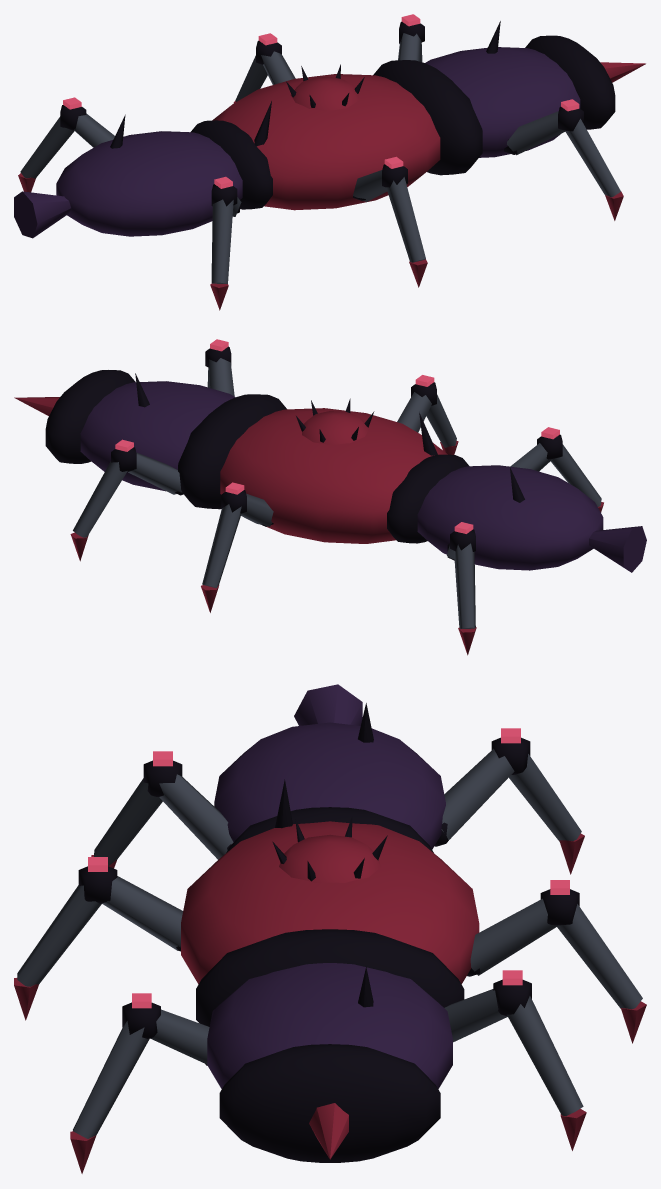
Rendered from acolyte-directorate.glb.
3 renders of one model, top to bottom at view 1: azimuth 30°, elevation 25°; view 2: azimuth 150°, elevation 25°; view 3: azimuth 270°, elevation 25°, orthographic. The views are drawn at different scales.
Visible parts, largest first — view 1: tergite_1, tergite_0, tergite_2, tergite_seam_1, tergite_seam_2, tergite_seam_0, telson, dome, limb_s2_tibia, limb_s1_tibia, limb_s0_tibia, limb_s0_femur (+11 smaller); view 2: tergite_1, tergite_0, tergite_2, tergite_seam_1, tergite_seam_2, tergite_seam_0, telson, dome, limb_p2_tibia, limb_p1_tibia, limb_p0_tibia, limb_p0_femur (+8 smaller); view 3: tergite_1, tergite_seam_2, tergite_2, tergite_0, tergite_seam_1, dome, limb_p0_tibia, limb_s0_tibia, limb_p1_femur, limb_p1_tibia, limb_s1_tibia, limb_s1_femur (+15 smaller).
Part boxes in pixels (x1=…): tergite_1: x1=212, y1=74, x2=440, y2=210; tergite_0: x1=56, y1=131, x2=242, y2=236; tergite_2: x1=425, y1=47, x2=580, y2=157; tergite_seam_1: x1=373, y1=60, x2=482, y2=175; tergite_seam_2: x1=525, y1=35, x2=615, y2=129; tergite_seam_0: x1=190, y1=120, x2=272, y2=209; telson: x1=14, y1=191, x2=71, y2=238; dome: x1=290, y1=77, x2=358, y2=110; limb_s2_tibia: x1=211, y1=199, x2=233, y2=283; limb_s1_tibia: x1=386, y1=177, x2=425, y2=262; limb_s0_tibia: x1=565, y1=118, x2=620, y2=197; limb_s0_femur: x1=507, y1=111, x2=565, y2=155; tergite_1: x1=220, y1=408, x2=447, y2=543; tergite_0: x1=417, y1=465, x2=603, y2=570; tergite_2: x1=80, y1=381, x2=234, y2=491; tergite_seam_1: x1=178, y1=394, x2=286, y2=509; tergite_seam_2: x1=45, y1=370, x2=135, y2=463; tergite_seam_0: x1=387, y1=454, x2=469, y2=543; telson: x1=589, y1=526, x2=646, y2=572; dome: x1=302, y1=411, x2=369, y2=445; limb_p2_tibia: x1=454, y1=543, x2=475, y2=629; limb_p1_tibia: x1=202, y1=504, x2=241, y2=588; limb_p0_tibia: x1=73, y1=461, x2=127, y2=537; limb_p0_femur: x1=128, y1=452, x2=182, y2=494; tergite_1: x1=181, y1=821, x2=479, y2=984; tergite_seam_2: x1=219, y1=1044, x2=440, y2=1162; tergite_2: x1=207, y1=963, x2=452, y2=1088; tergite_0: x1=214, y1=722, x2=445, y2=849; tergite_seam_1: x1=196, y1=929, x2=464, y2=1026; dome: x1=279, y1=834, x2=381, y2=882; limb_p0_tibia: x1=507, y1=996, x2=583, y2=1115; limb_s0_tibia: x1=73, y1=1021, x2=149, y2=1138; limb_p1_femur: x1=470, y1=898, x2=557, y2=975; limb_p1_tibia: x1=557, y1=904, x2=642, y2=1009; limb_s1_tibia: x1=17, y1=885, x2=101, y2=986; limb_s1_femur: x1=102, y1=876, x2=183, y2=950.
Bounding box in the file's own units: 58 × 12.25 × 34.98.
